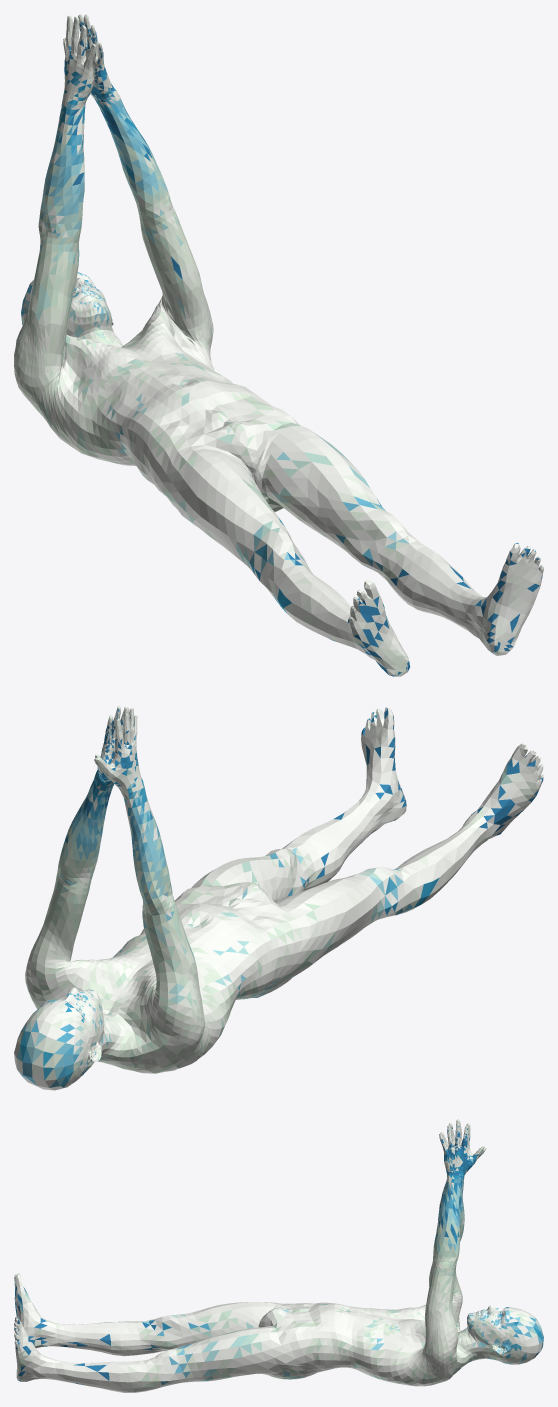
The model's file is spiralconv_ch16_6.glb.
3 renders of one model, top to bottom at view 1: azimuth 30°, elevation 25°; view 2: azimuth 150°, elevation 25°; view 3: azimuth 270°, elevation 25°, orthographic. The views are drawn at different scales.
Parts seen in each view (by area): view 1: imagetostl_mesh0; view 2: imagetostl_mesh0; view 3: imagetostl_mesh0.
Part boxes in pixels (x1,y1,x2,y2): imagetostl_mesh0: [14, 14, 543, 676]; imagetostl_mesh0: [14, 705, 543, 1090]; imagetostl_mesh0: [14, 1119, 543, 1392].
Bounding box in the file's own units: 0.4942 × 0.9339 × 1.78.
